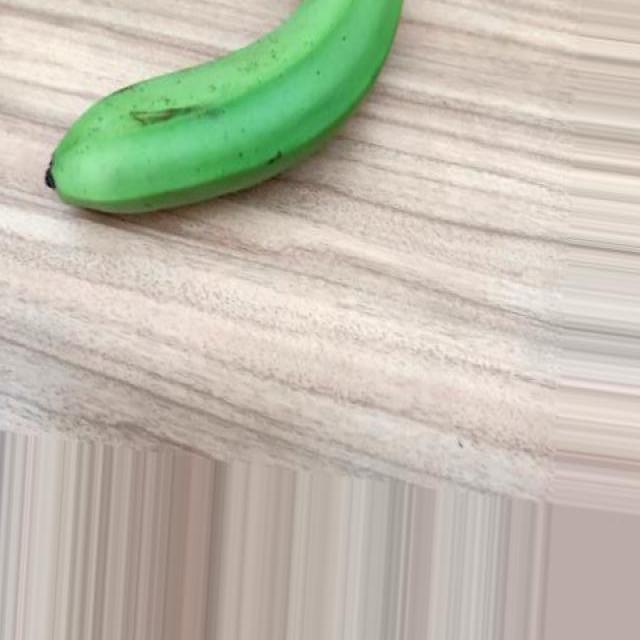Unripe: (45, 0, 404, 218)
